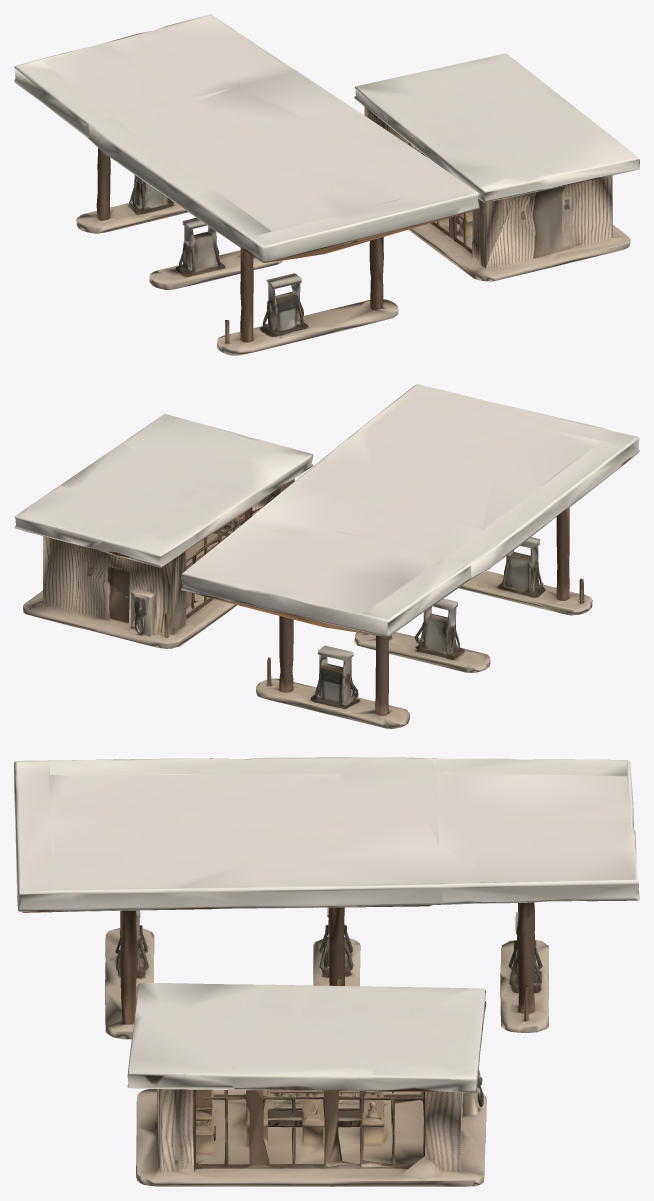
File: fuel-station.glb
3 views of the same model, one above another, from view 1: azimuth 30°, elevation 25°; view 2: azimuth 150°, elevation 25°; view 3: azimuth 270°, elevation 25° (orthographic). The views are drawn at different scales.
Visible parts, largest first — view 1: tripo_node_5bd3a26c-caf0-4583-800d-5984aaf18140; view 2: tripo_node_5bd3a26c-caf0-4583-800d-5984aaf18140; view 3: tripo_node_5bd3a26c-caf0-4583-800d-5984aaf18140.
Part boxes in pixels (x1,y1,x2,y2): tripo_node_5bd3a26c-caf0-4583-800d-5984aaf18140: (14,14,639,355); tripo_node_5bd3a26c-caf0-4583-800d-5984aaf18140: (14,384,639,728); tripo_node_5bd3a26c-caf0-4583-800d-5984aaf18140: (14,757,639,1186).
Bounding box in the file's own units: 0.9979 × 0.3043 × 1.
Materials: 1 (1 with a texture image).
